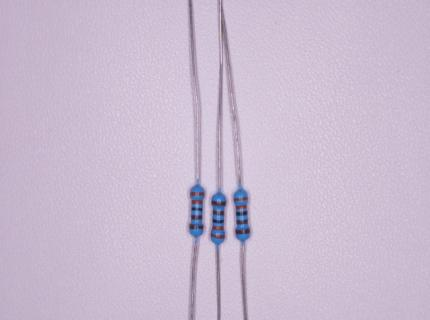Black band: (191, 207, 202, 212), (213, 219, 224, 223), (236, 211, 247, 215)
Brown band: (190, 225, 204, 230), (236, 229, 250, 234), (212, 201, 226, 205), (191, 215, 202, 220), (213, 210, 224, 215), (237, 219, 248, 224)
Orange band: (211, 233, 225, 239), (190, 192, 204, 196), (234, 197, 248, 201), (213, 226, 224, 230), (236, 205, 247, 209), (192, 200, 202, 204)
